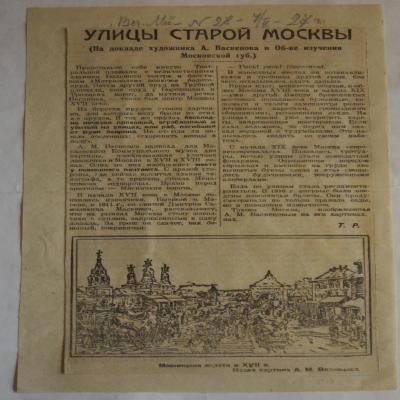document: (27, 7, 388, 390)
